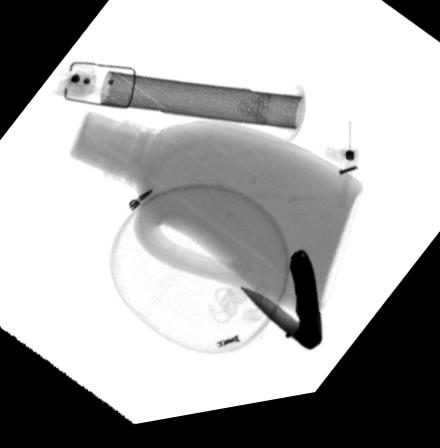Knife: (236, 259, 324, 364)
